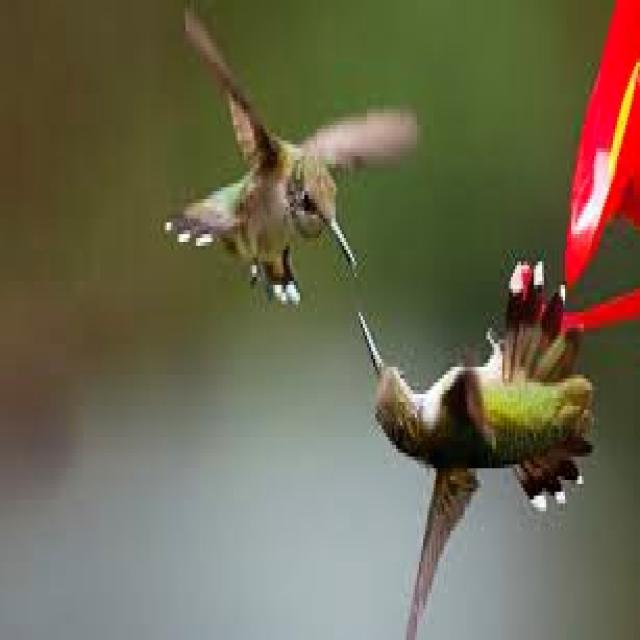hummingbird: (359, 261, 592, 636), (165, 8, 417, 300)
